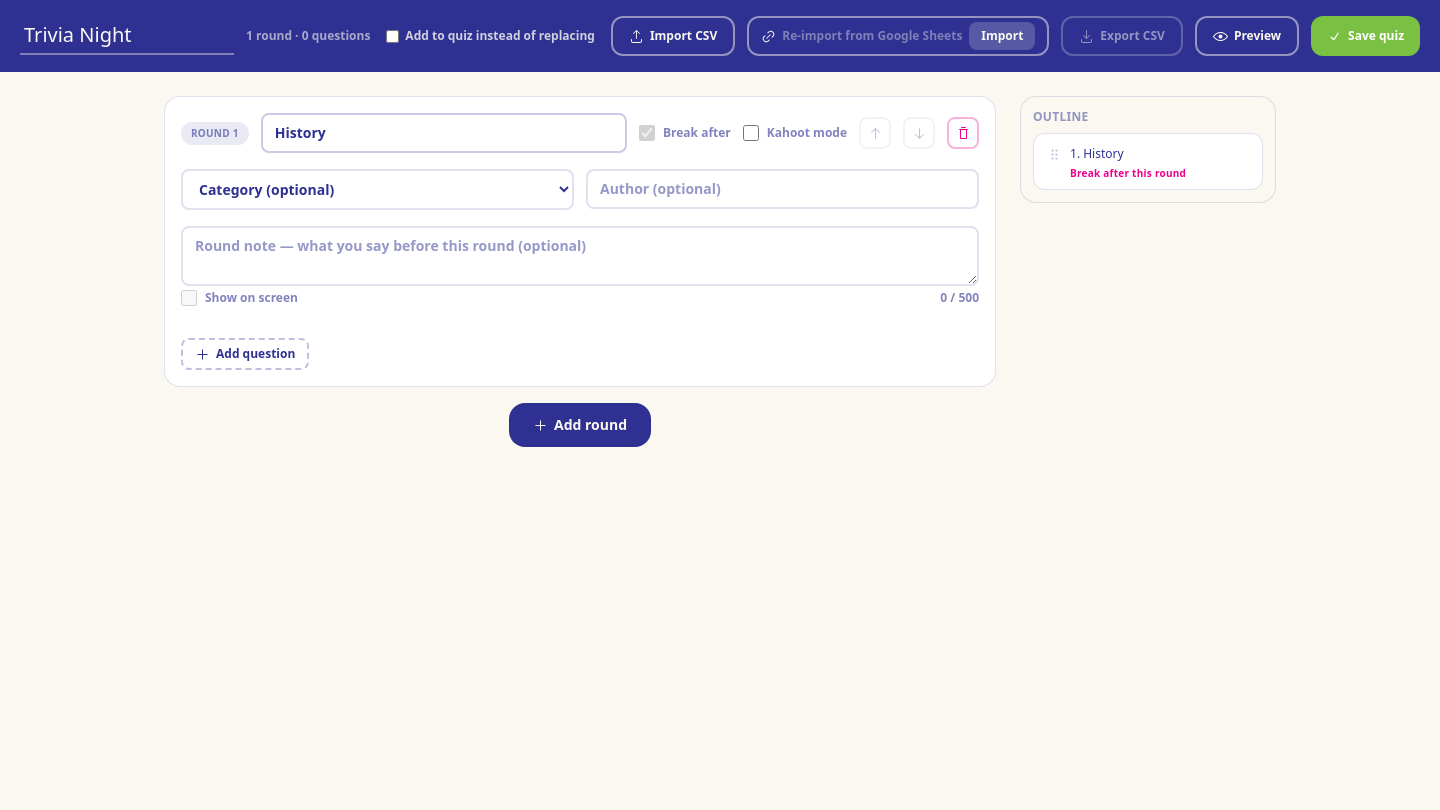
Test: QuizEditorPanel › updates an existing quiz in place and shows a saved flash
Expected: the field showing "Trivia Night" in the row of "Add to quiz instead of replacing" is shown, [20, 17, 234, 55]
Click the button "Save quiz" at (1366, 36), box [1311, 16, 1420, 56]
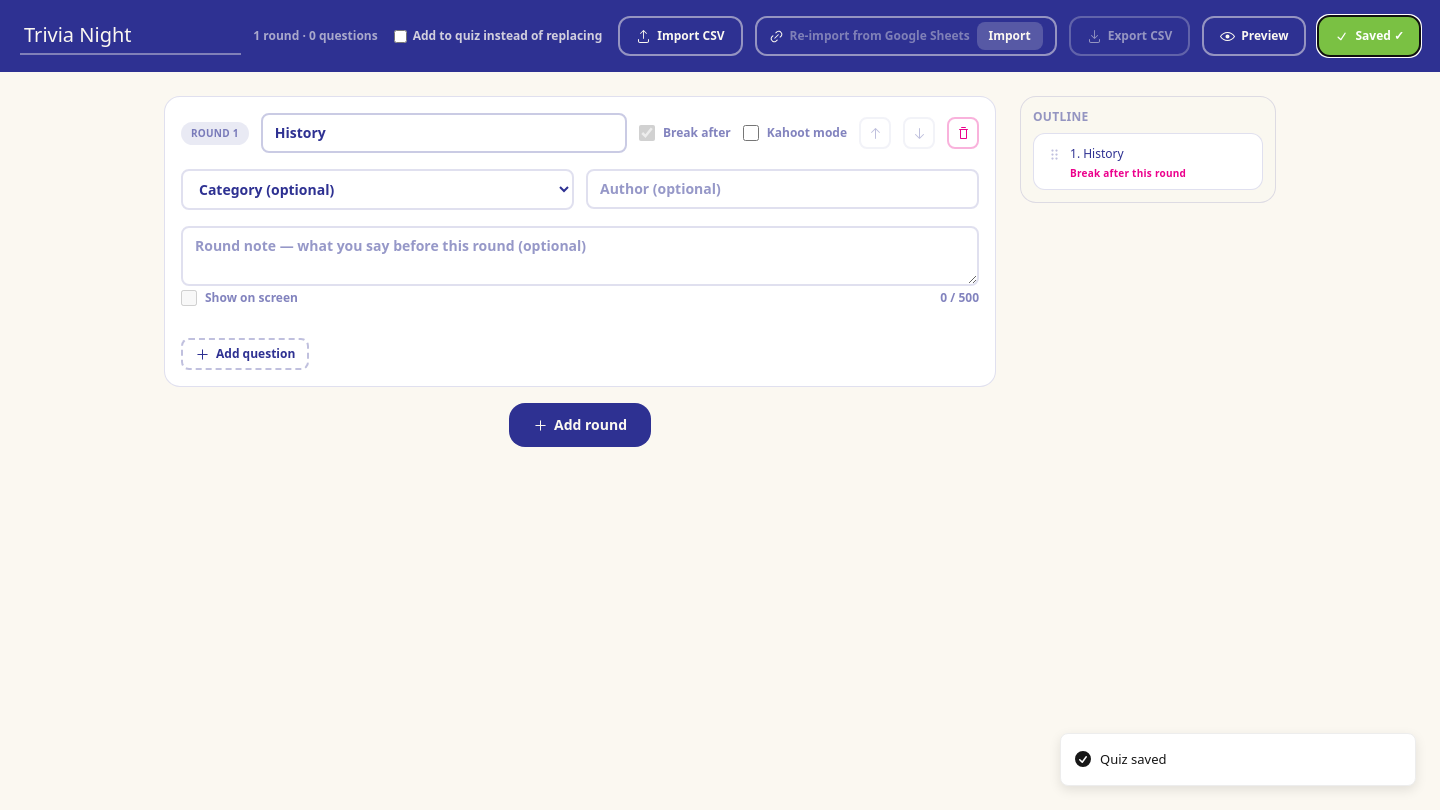
Now the button "Saved ✓" is shown, box [1318, 16, 1420, 56]
Now the text "Quiz saved" is shown, box [1100, 750, 1166, 769]
